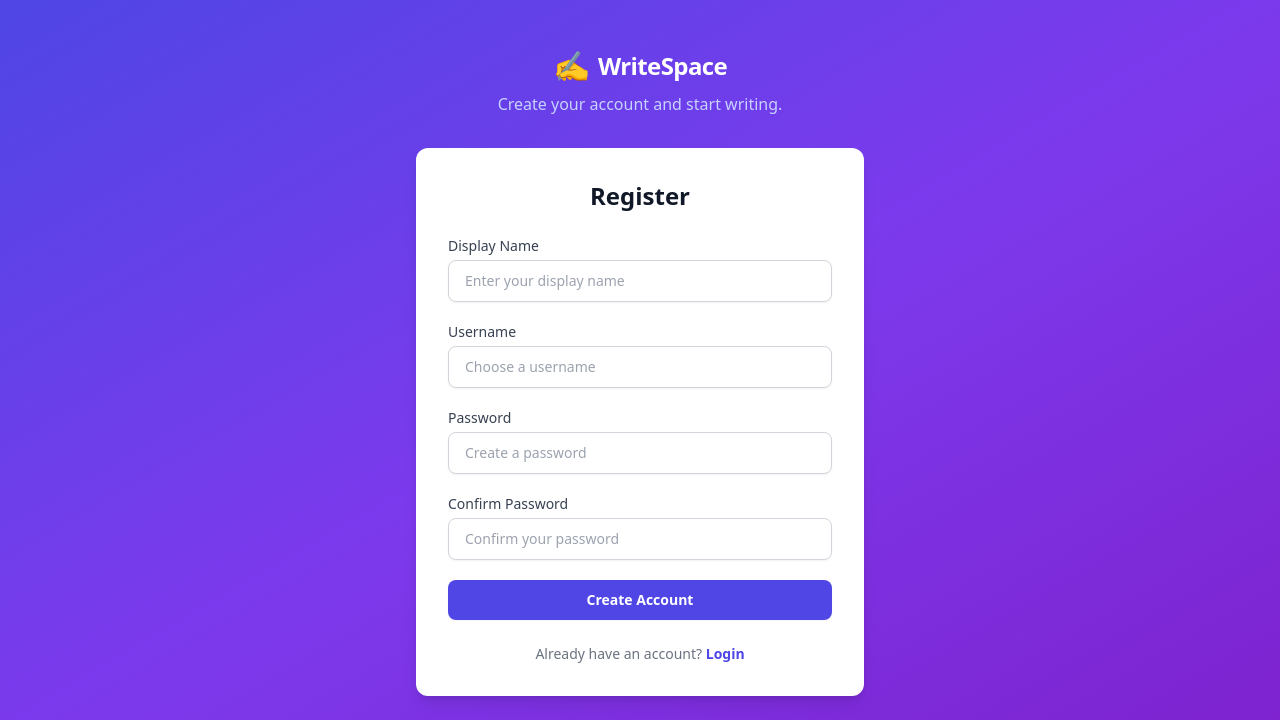
Scenario: App routing › navigation between pages › navigates from RegisterPage to LoginPage via Login link
Click the link "Login". click: (725, 654)
box: 706,644 -> 745,663
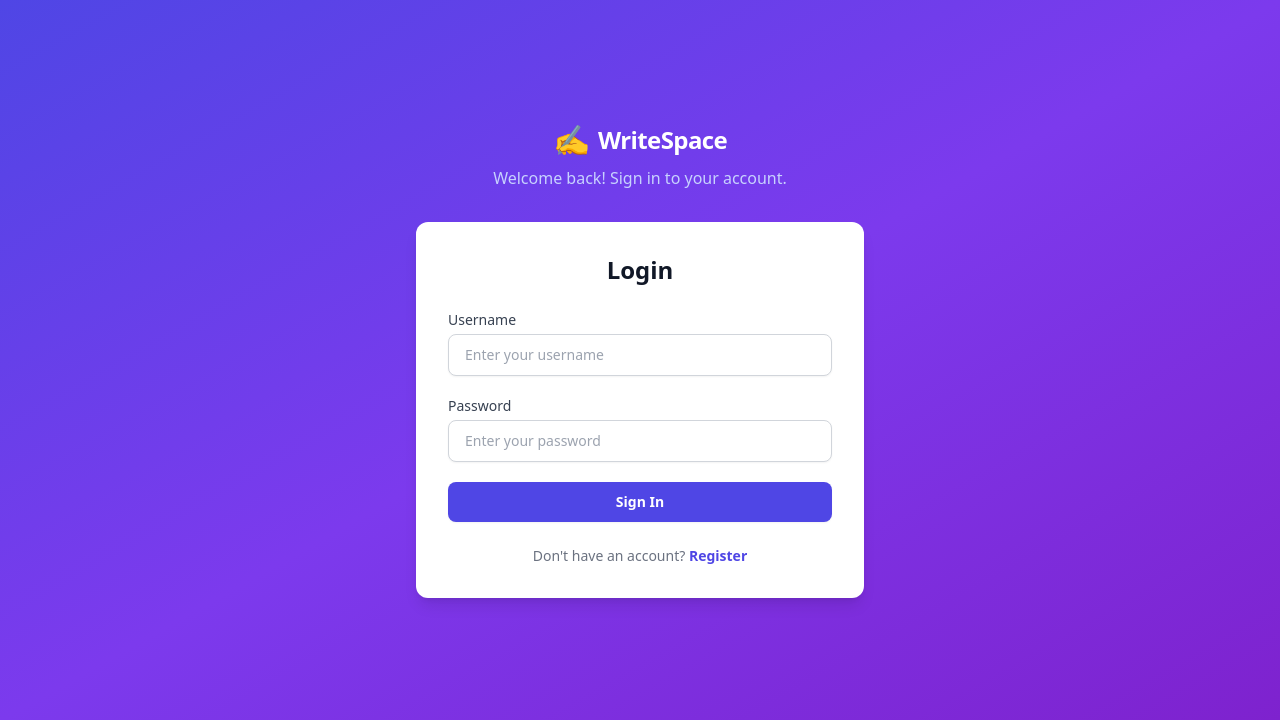
Expected: the heading "Login" is shown, 607,253 -> 673,286
